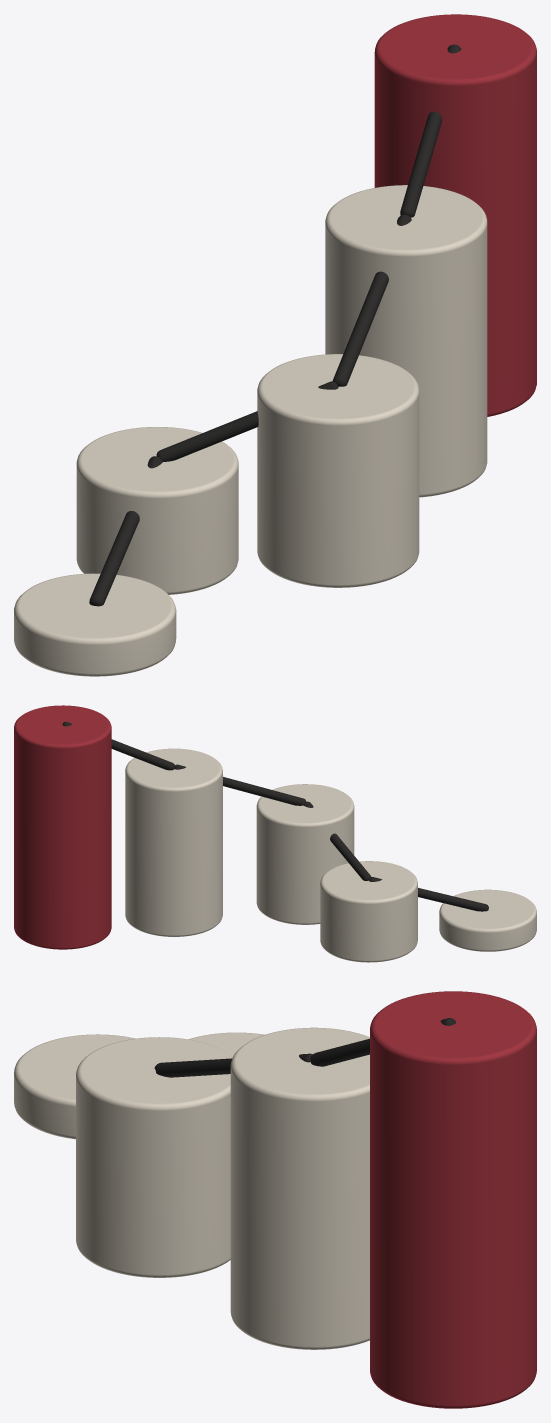
File: VSV-020.glb
The picture shows the model from 3 angles, top to bottom: view 1: azimuth 30°, elevation 25°; view 2: azimuth 150°, elevation 25°; view 3: azimuth 270°, elevation 25°; orthographic projection. The views are drawn at different scales.
Parts seen in each view (by area): view 1: VSV-020_milestone-path__milestone.004, VSV-020_milestone-path__milestone.002, VSV-020_milestone-path__milestone.003, VSV-020_milestone-path__milestone.001, VSV-020_milestone-path__milestone, VSV-020_milestone-path__path.002, VSV-020_milestone-path__path.003, VSV-020_milestone-path__path.001, VSV-020_milestone-path__path; view 2: VSV-020_milestone-path__milestone.004, VSV-020_milestone-path__milestone.003, VSV-020_milestone-path__milestone.002, VSV-020_milestone-path__milestone.001, VSV-020_milestone-path__milestone, VSV-020_milestone-path__path.002, VSV-020_milestone-path__path, VSV-020_milestone-path__path.003, VSV-020_milestone-path__path.001; view 3: VSV-020_milestone-path__milestone.004, VSV-020_milestone-path__milestone.003, VSV-020_milestone-path__milestone.002, VSV-020_milestone-path__milestone, VSV-020_milestone-path__path.002, VSV-020_milestone-path__path.003, VSV-020_milestone-path__milestone.001.
Boxes of the visible parts, x1=… form: VSV-020_milestone-path__milestone.004: x1=374, y1=14, x2=536, y2=416; VSV-020_milestone-path__milestone.002: x1=257, y1=354, x2=419, y2=587; VSV-020_milestone-path__milestone.003: x1=325, y1=185, x2=487, y2=497; VSV-020_milestone-path__milestone.001: x1=76, y1=427, x2=238, y2=594; VSV-020_milestone-path__milestone: x1=14, y1=573, x2=176, y2=676; VSV-020_milestone-path__path.002: x1=332, y1=214, x2=411, y2=386; VSV-020_milestone-path__path.003: x1=400, y1=44, x2=461, y2=217; VSV-020_milestone-path__path.001: x1=156, y1=381, x2=338, y2=461; VSV-020_milestone-path__path: x1=89, y1=456, x2=162, y2=606; VSV-020_milestone-path__milestone.004: x1=14, y1=705, x2=111, y2=949; VSV-020_milestone-path__milestone.003: x1=125, y1=748, x2=222, y2=936; VSV-020_milestone-path__milestone.002: x1=256, y1=784, x2=354, y2=924; VSV-020_milestone-path__milestone.001: x1=320, y1=861, x2=417, y2=962; VSV-020_milestone-path__milestone: x1=439, y1=889, x2=536, y2=951; VSV-020_milestone-path__path.002: x1=174, y1=764, x2=306, y2=805; VSV-020_milestone-path__path: x1=369, y1=877, x2=488, y2=911; VSV-020_milestone-path__path.003: x1=62, y1=721, x2=175, y2=770; VSV-020_milestone-path__path.001: x1=304, y1=801, x2=371, y2=880; VSV-020_milestone-path__milestone.004: x1=370, y1=991, x2=536, y2=1408; VSV-020_milestone-path__milestone.003: x1=230, y1=1027, x2=369, y2=1349; VSV-020_milestone-path__milestone.002: x1=76, y1=1037, x2=232, y2=1277; VSV-020_milestone-path__milestone: x1=14, y1=1034, x2=135, y2=1139; VSV-020_milestone-path__path.002: x1=155, y1=1053, x2=312, y2=1077; VSV-020_milestone-path__path.003: x1=310, y1=1018, x2=456, y2=1066; VSV-020_milestone-path__milestone.001: x1=189, y1=1032, x2=264, y2=1056.
Bounding box in the file's own units: 2.59 × 1.27 × 1.69.
